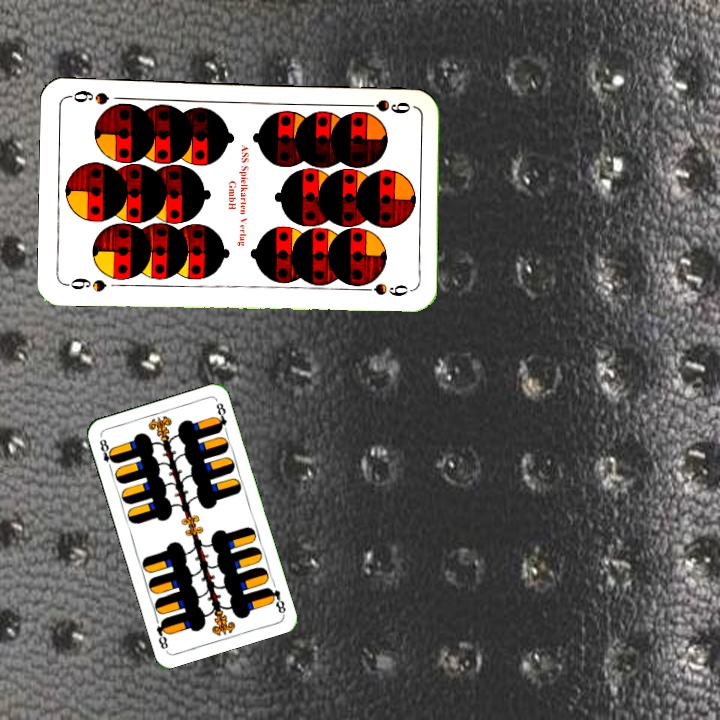E8: (95, 435, 118, 473), (263, 583, 288, 617)
S9: (355, 95, 413, 117), (62, 274, 109, 295)
